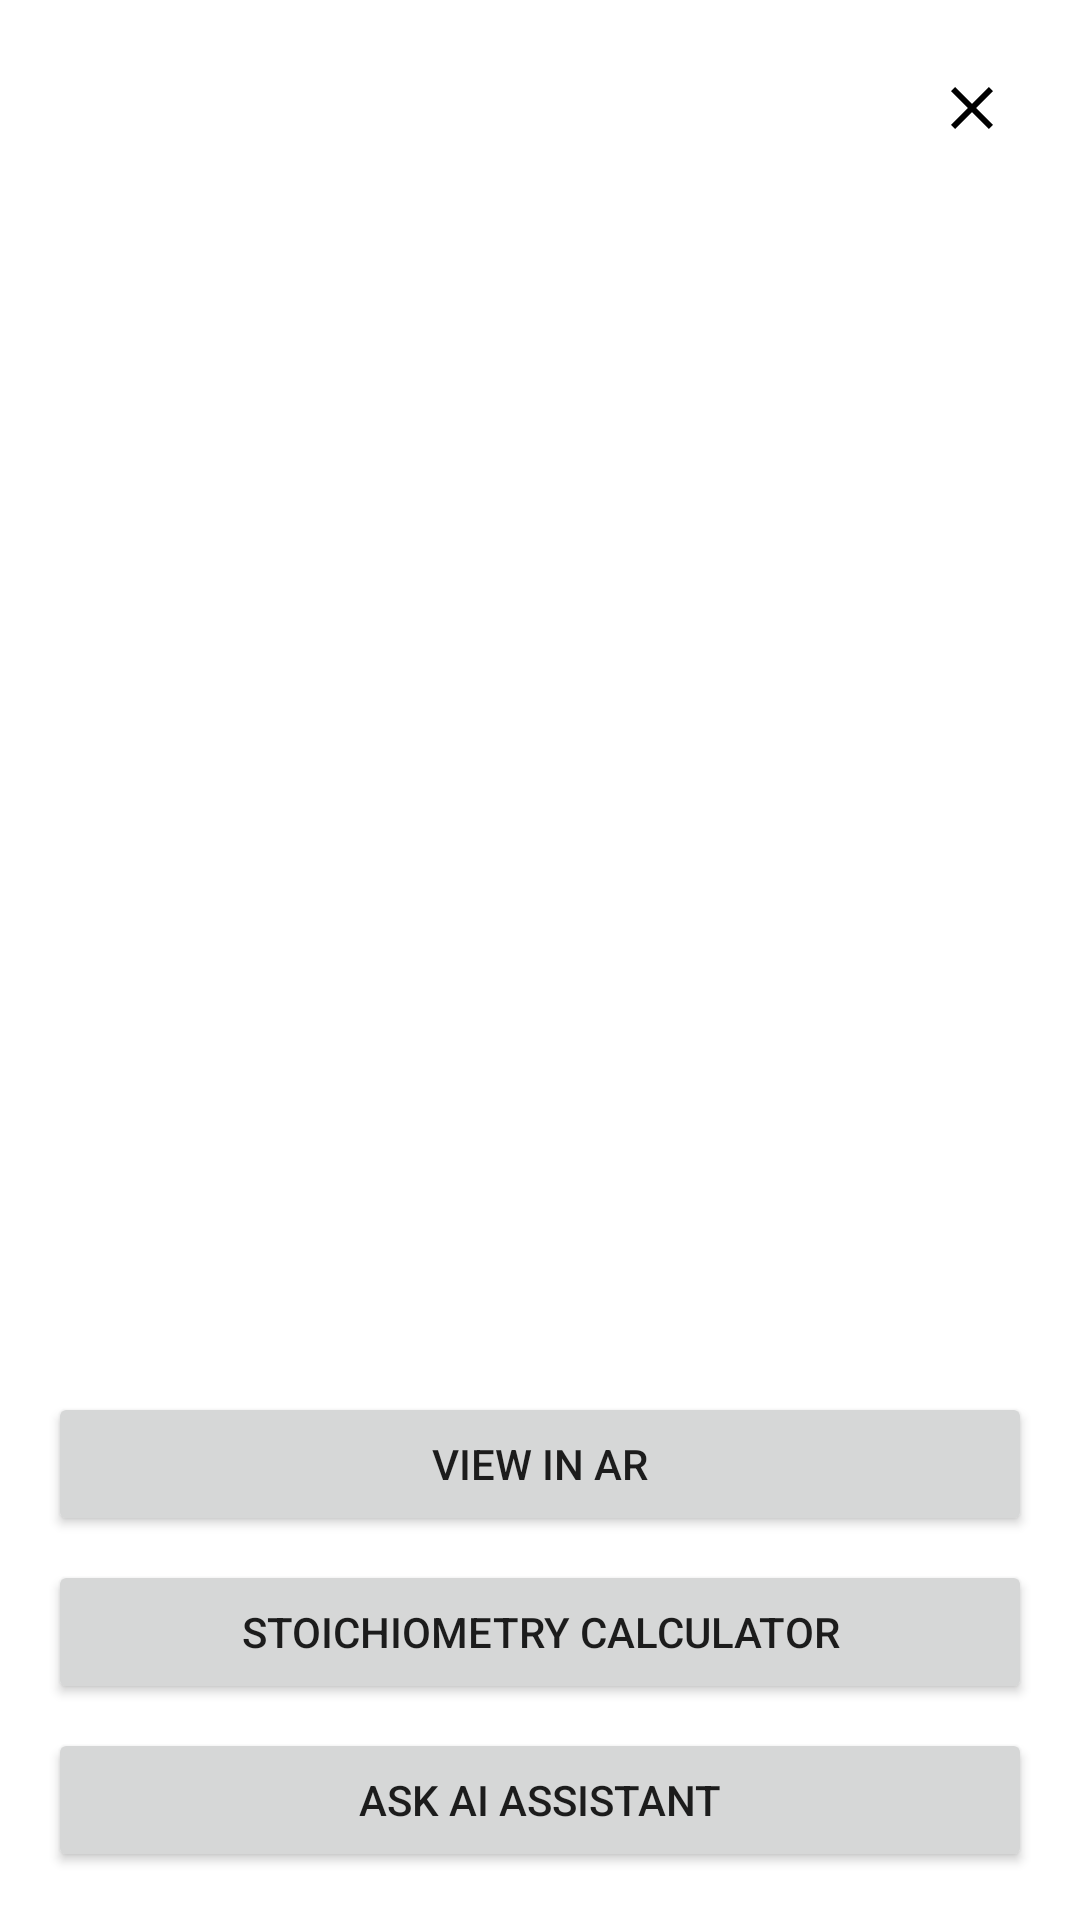

Icon click points for this 1080px×1920px phone screenshot, format point (x, y):
Close: point (972, 108)
